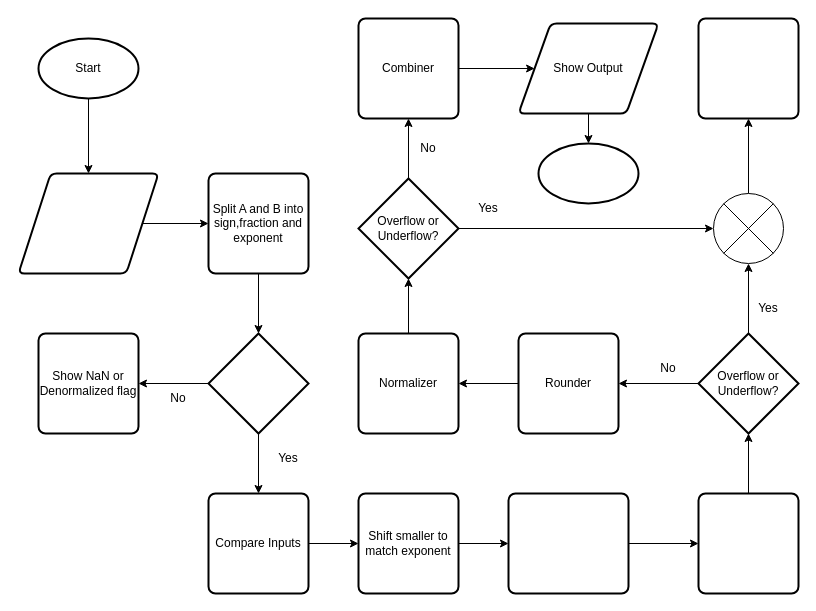
This 816x611 diagram has some shape labels left out. The shapes that lost their labels are listed below. From the top down, each one's centre as x and y in pixels, then its label:
At [748,68]: "Show Overflow or Underflow flag".
At [588,173]: "End".
At [88,223]: "Take Inputs as A and B".
At [258,383]: "Is Input Valid?".
At [568,543]: "Adder_Subtractor".
At [748,543]: "Normalize Result".
